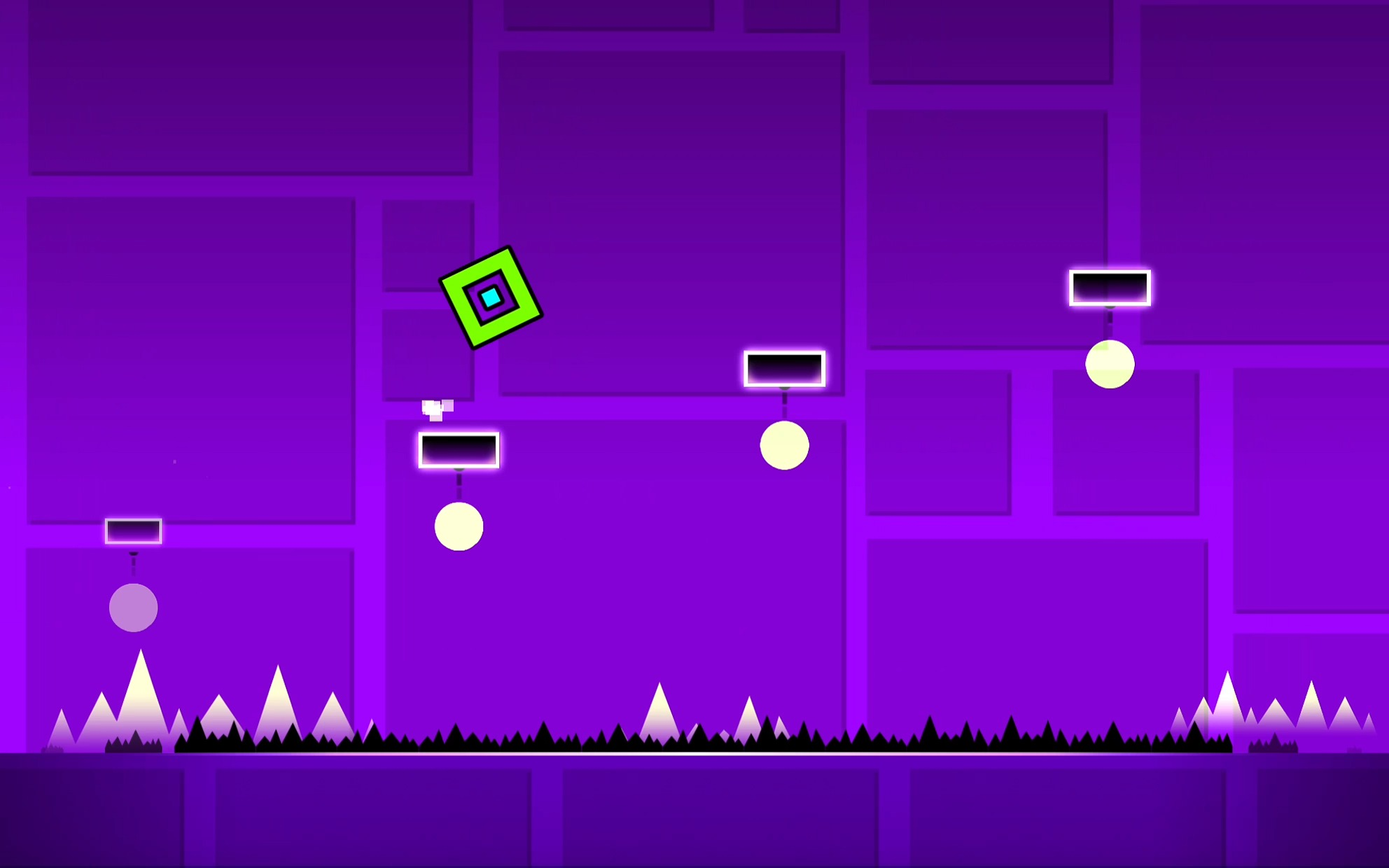Block3: (1067, 269, 1152, 306), (417, 431, 501, 468), (744, 353, 828, 389), (104, 518, 162, 545)
Player: (442, 246, 544, 349)
Spike3: (26, 714, 1380, 761)
